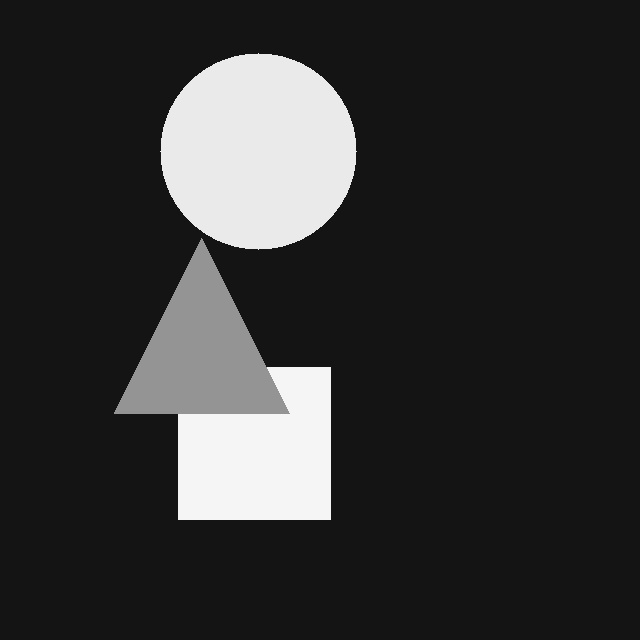circle: (160, 53, 356, 249)
square: (178, 367, 330, 519)
triangle: (114, 238, 289, 413)
